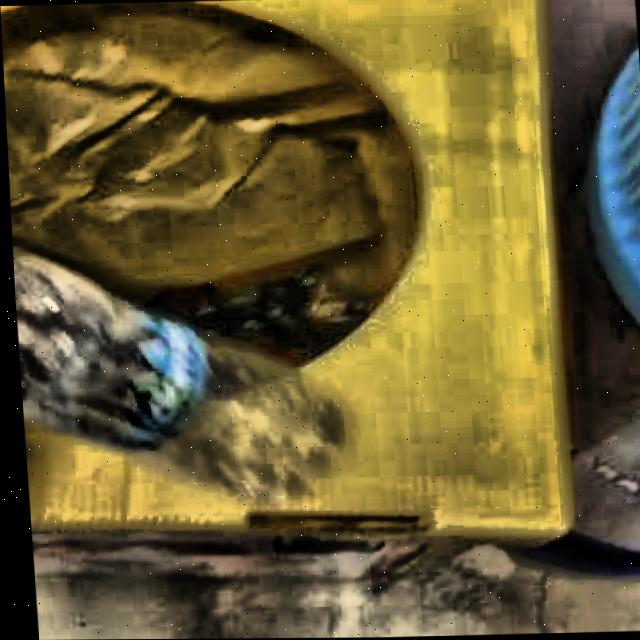plastic: (10, 253, 336, 503)
